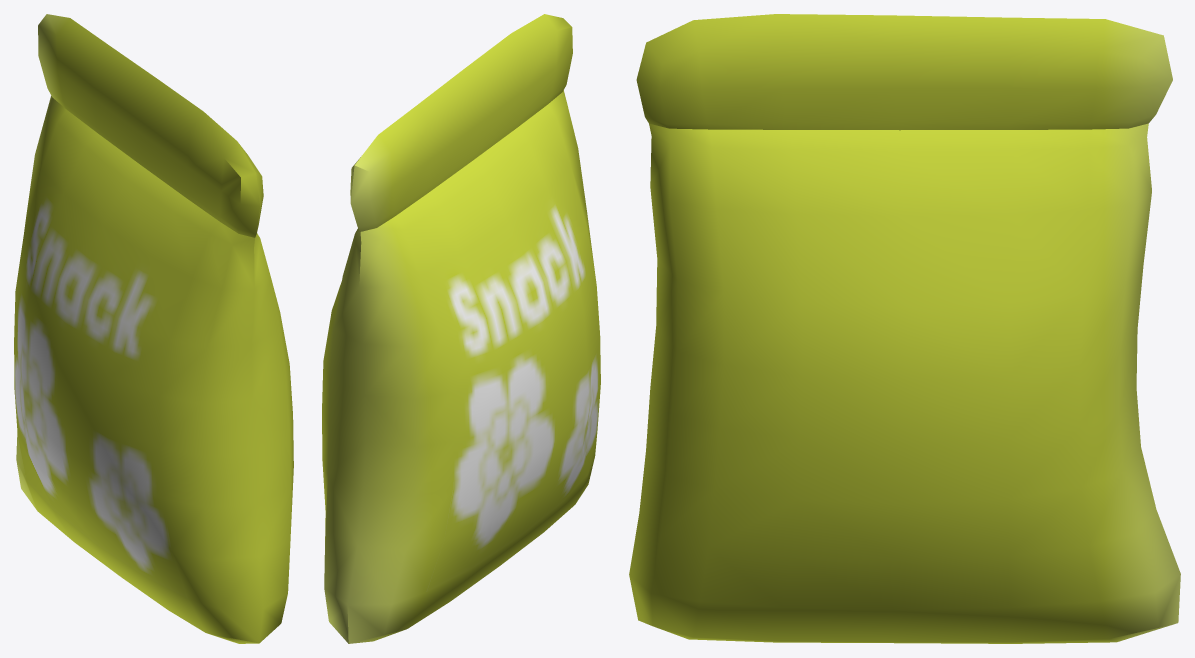
The model's file is Snack03.fbx.
3 views of the same model, side by side, from view 1: azimuth 30°, elevation 25°; view 2: azimuth 150°, elevation 25°; view 3: azimuth 270°, elevation 25° (orthographic). The views are drawn at different scales.
Visible parts, largest first — view 1: Snack03; view 2: Snack03; view 3: Snack03.
Boxes of the visible parts, <box> form: Snack03: <box>14,14,293,643</box>; Snack03: <box>322,14,600,643</box>; Snack03: <box>629,14,1180,643</box>.
Size of the model in its own units: 0.0539 by 0.1119 by 0.1409.
